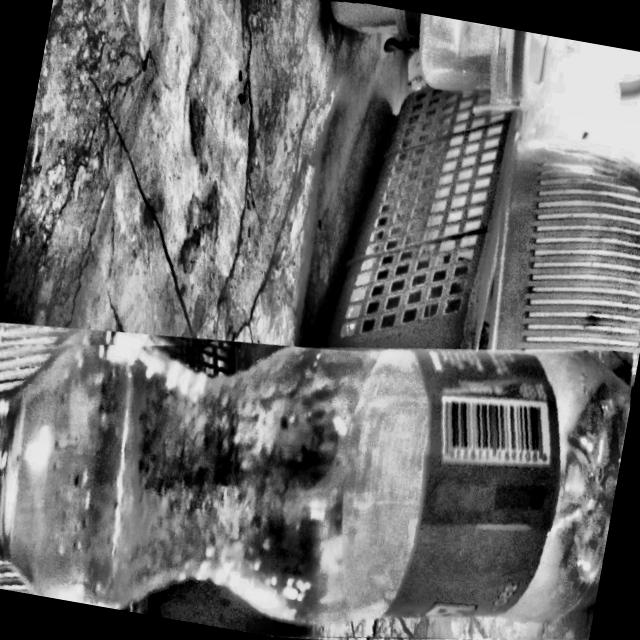Plastic-Bottle: (0, 252, 637, 640)
